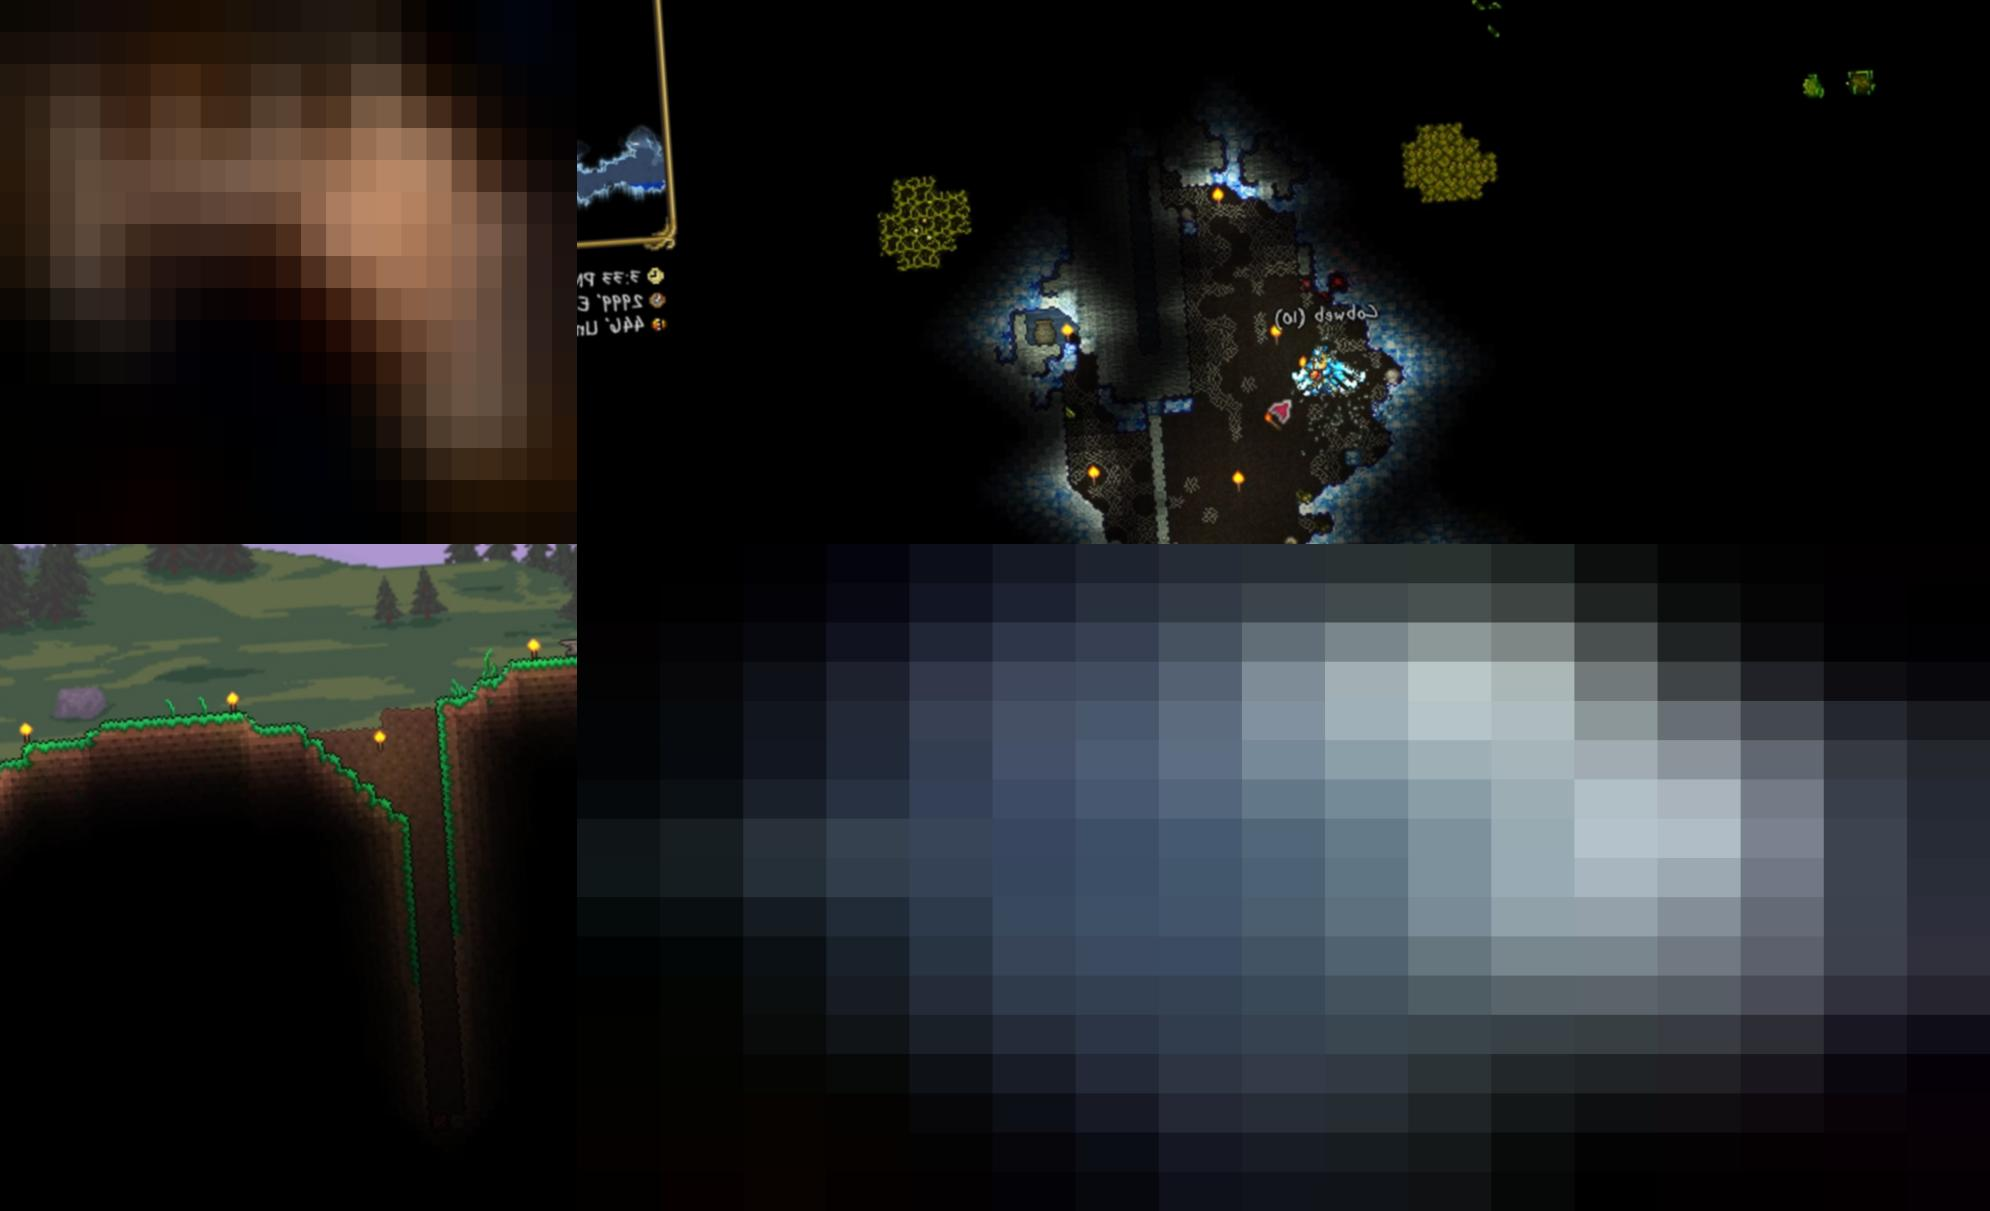cobwebT: (1241, 368, 1261, 395)
helmet: (0, 0, 577, 544)
ore: (577, 544, 1990, 1211)
